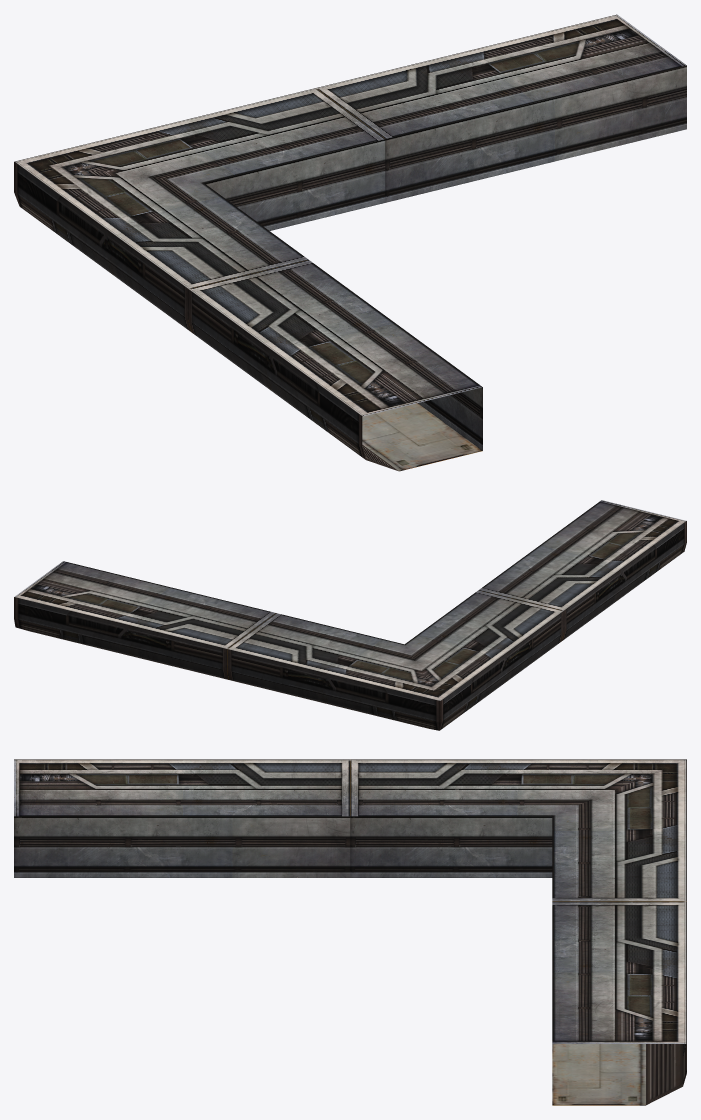
The model's file is Edge_06.fbx.
The picture shows the model from 3 angles, top to bottom: view 1: azimuth 30°, elevation 25°; view 2: azimuth 150°, elevation 25°; view 3: azimuth 270°, elevation 25°; orthographic projection. The views are drawn at different scales.
Visible parts, largest first — view 1: Edge_06; view 2: Edge_06; view 3: Edge_06.
Boxes of the visible parts, left/top/right/bottom form: Edge_06: left=14, top=14, right=686, bottom=471; Edge_06: left=14, top=500, right=686, bottom=730; Edge_06: left=14, top=759, right=686, bottom=1105.
Bounding box in the file's own units: 500 × 50.53 × 500.
